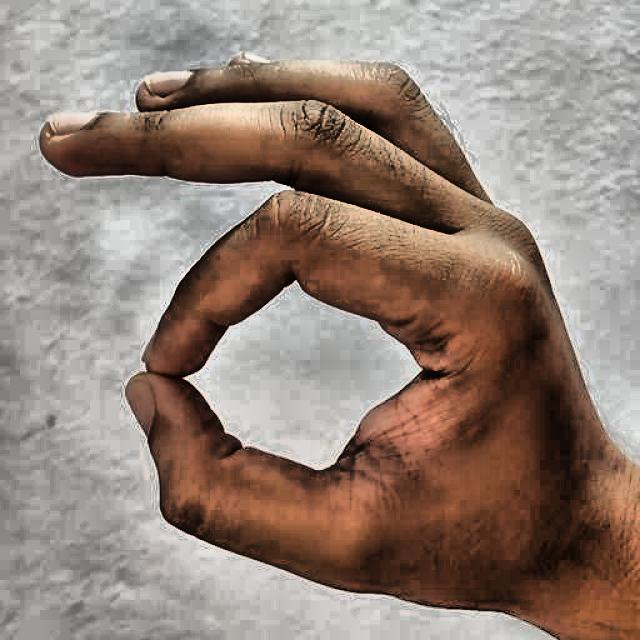Yo: (31, 32, 588, 635)
